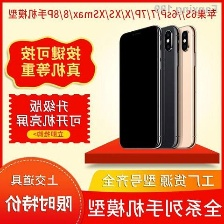phone: (116, 21, 165, 150), (142, 24, 181, 150), (162, 22, 197, 150)
